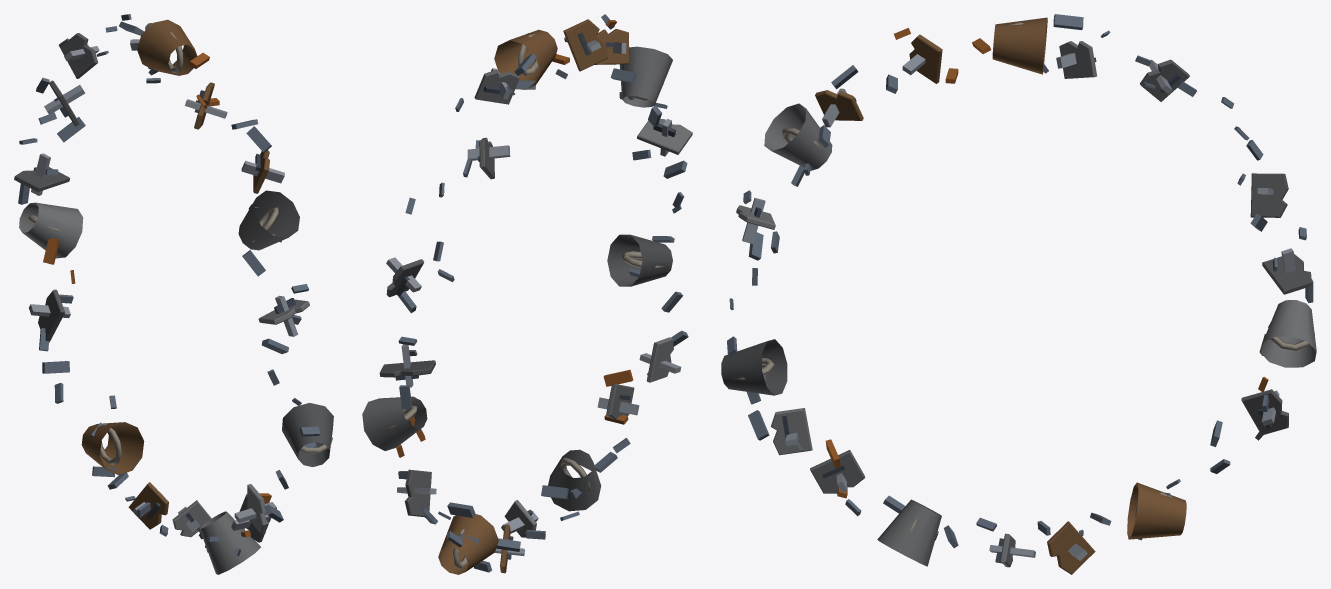
File: metal-wreck-v1.glb
The picture shows the model from 3 angles, left to right: view 1: azimuth 30°, elevation 25°; view 2: azimuth 150°, elevation 25°; view 3: azimuth 270°, elevation 25°; orthographic projection. The views are drawn at different scales.
Bounding box in the file's own units: 0.3292 × 1.89 × 1.85.
